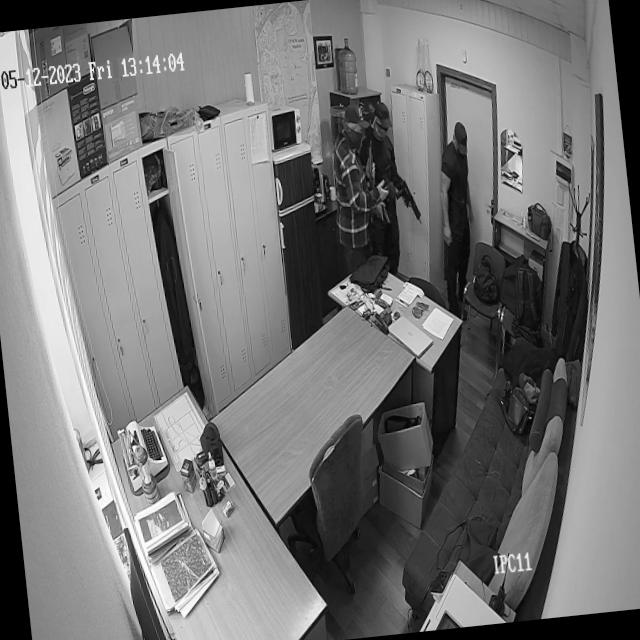gun: (394, 171, 423, 228), (381, 204, 392, 228)
person: (327, 106, 387, 256), (434, 120, 481, 296)
person with a gun: (364, 103, 408, 269)
